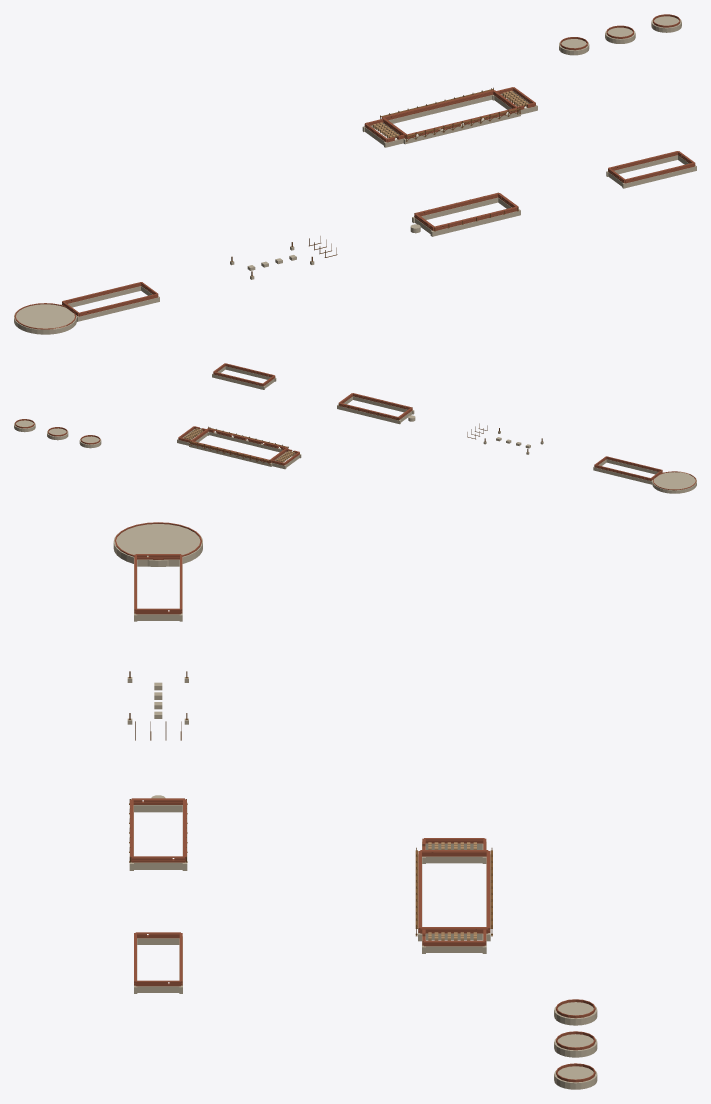
3 renders of one model, top to bottom at view 1: azimuth 30°, elevation 25°; view 2: azimuth 150°, elevation 25°; view 3: azimuth 270°, elevation 25°, orthographic. The views are drawn at different scales.
Visible parts, largest first — view 1: chem_K1; view 2: chem_K1; view 3: chem_K1.
Boxes of the visible parts, left/top/right/bottom form: chem_K1: left=14, top=14, right=696, bottom=334; chem_K1: left=14, top=363, right=696, bottom=493; chem_K1: left=113, top=522, right=597, bottom=1089.
Size of the model in its own units: 350 by 4.44 by 127.
